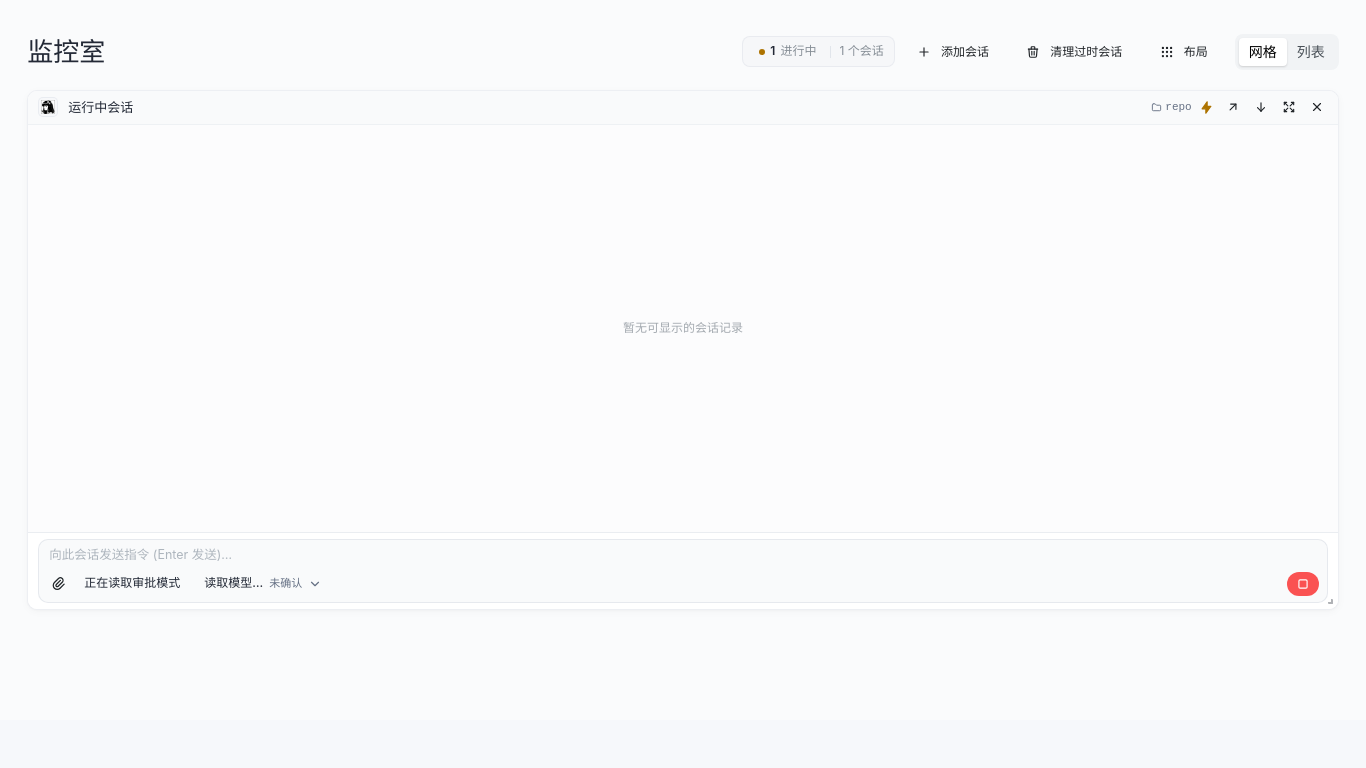
Scenario: MonitorPage › defaults to active sessions and persists manually added idle sessions
Check: the text "1 个会话" is shown, box x1=839 y1=43 x2=884 y2=60
Check: the heading "运行中会话" is shown, box x1=68 y1=99 x2=133 y2=115
Click the button "添加会话". click: (955, 52)
box: x1=907 y1=37 x2=1004 y2=67
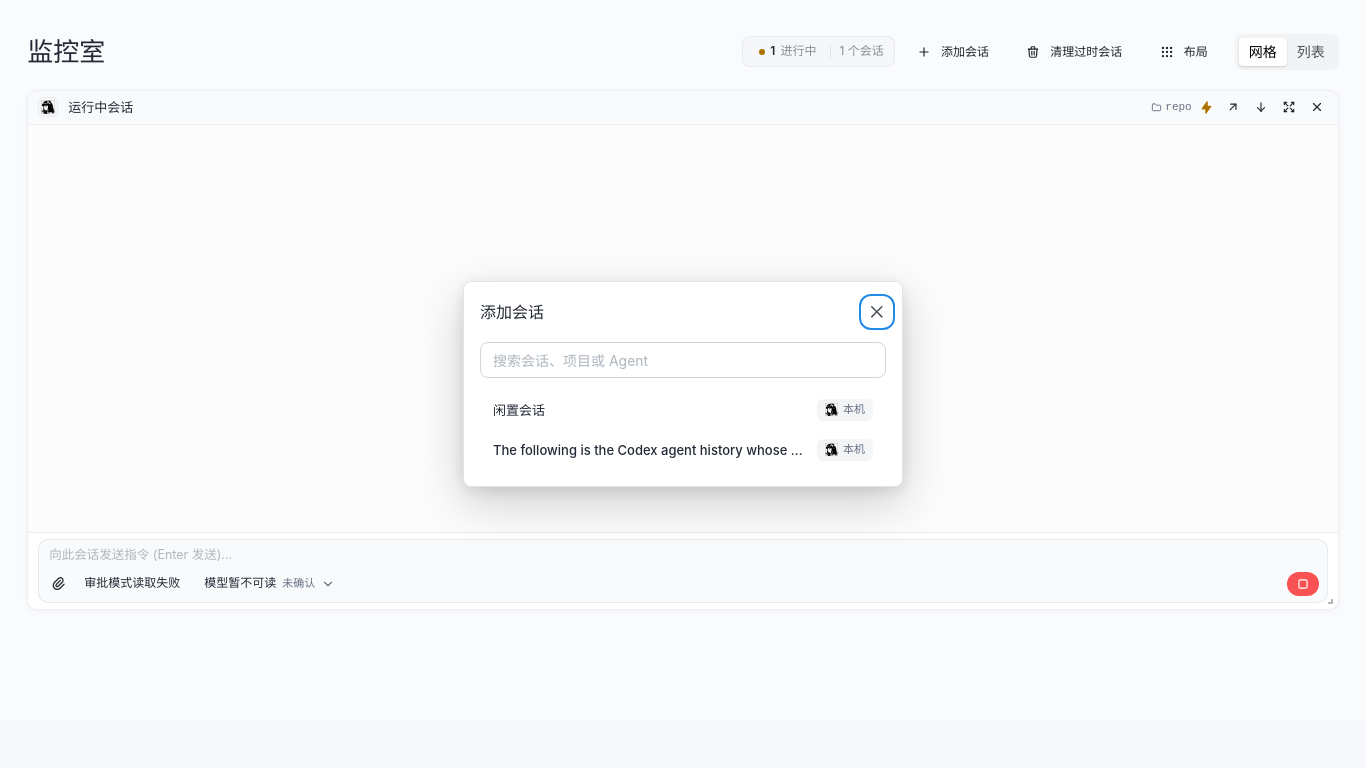
Check: the text "The following is the Codex agent history whose request action you are assessing" is shown, box x1=493 y1=440 x2=805 y2=460
Click the button "闲置会话 本机". click: (519, 410)
box: x1=480 y1=390 x2=886 y2=430
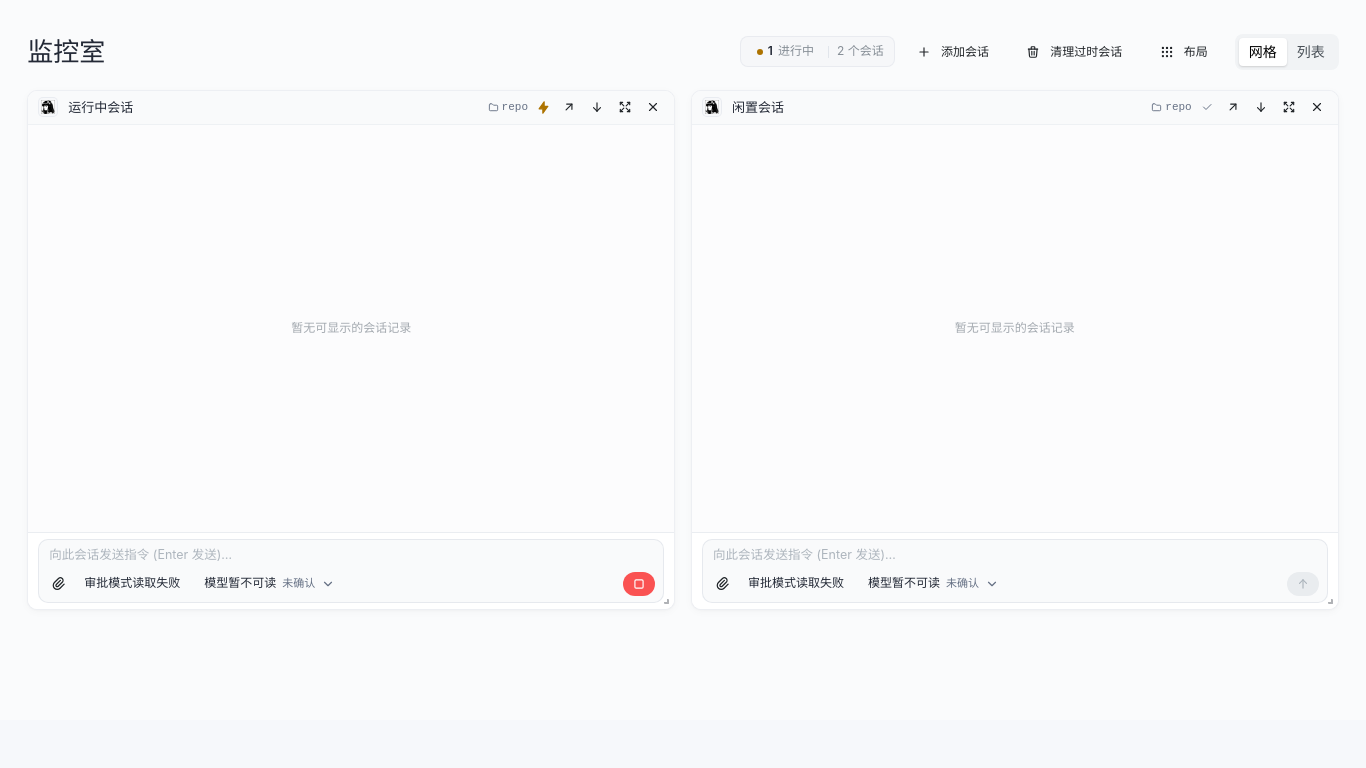
Check: the element with test id "monitor-card-agent-1-session-2" is shown, box x1=691 y1=90 x2=1339 y2=610
Check: the text "2 个会话" is shown, box x1=837 y1=43 x2=884 y2=60
